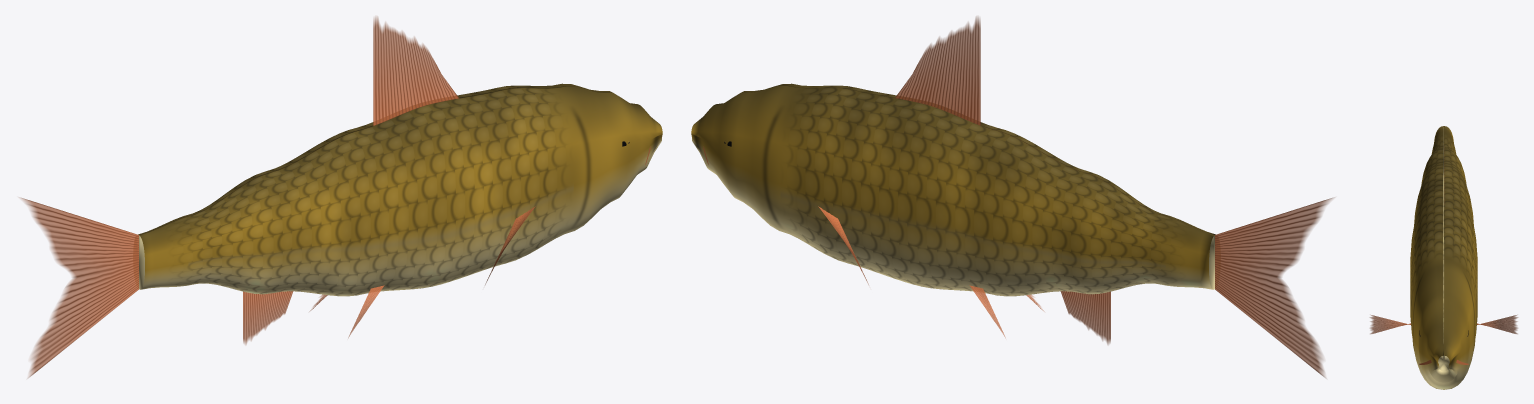
Rendered from zogora.glb.
The picture shows the model from 3 angles, left to right: view 1: azimuth 30°, elevation 25°; view 2: azimuth 150°, elevation 25°; view 3: azimuth 270°, elevation 25°; orthographic projection. The views are drawn at different scales.
Visible parts, largest first — view 1: zogora; view 2: zogora; view 3: zogora.
Part boxes in pixels (x1,y1,x2,y2): zogora: (19,16,662,377); zogora: (691,16,1334,377); zogora: (1370,126,1517,389).
Bounding box in the file's own units: 0.5208 × 0.2341 × 0.1242.
Materials: 1 (1 with a texture image).
